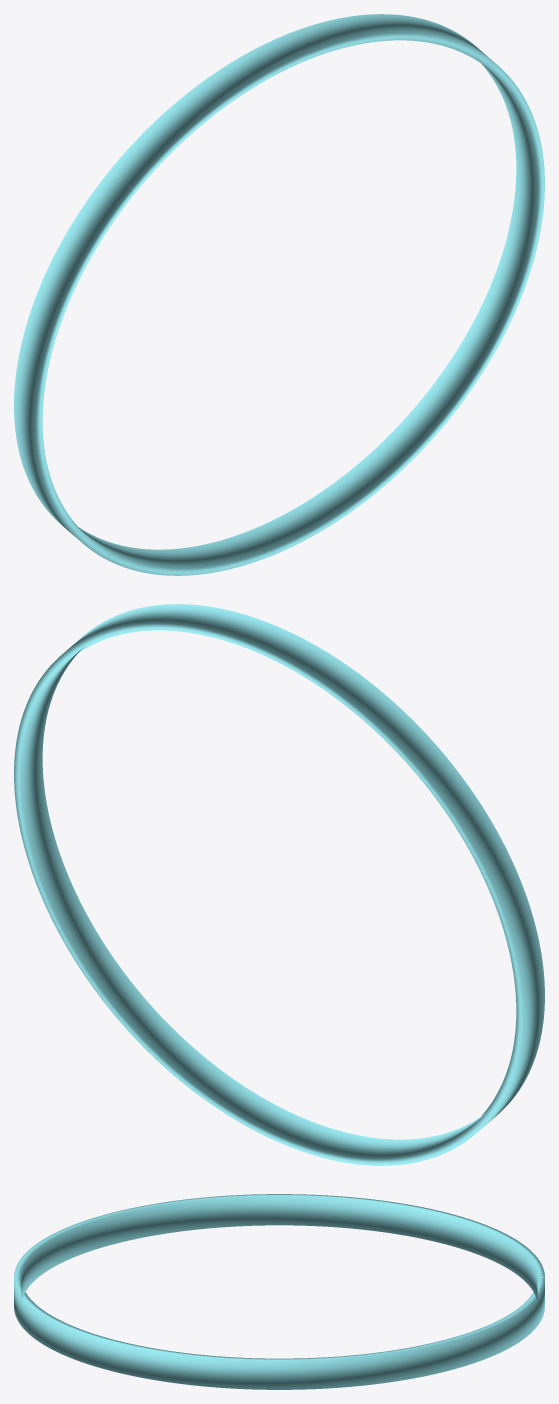
Rendered from coil_coil_1_tube.gltf.
3 views of the same model, one above another, from view 1: azimuth 30°, elevation 25°; view 2: azimuth 150°, elevation 25°; view 3: azimuth 270°, elevation 25° (orthographic). The views are drawn at different scales.
Visible parts, largest first — view 1: Renderer Node; view 2: Renderer Node; view 3: Renderer Node.
Part boxes in pixels (<box>): Renderer Node: <box>14,14,544,575</box>; Renderer Node: <box>14,604,544,1165</box>; Renderer Node: <box>14,1194,544,1389</box>.
Size of the model in its own units: 0.4667 by 0.4428 by 0.6084.
